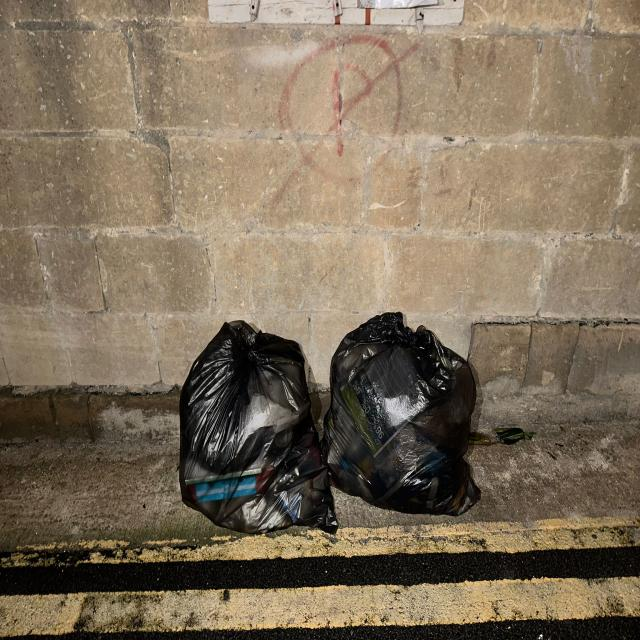black_bag: (175, 311, 338, 540), (326, 306, 485, 520)
